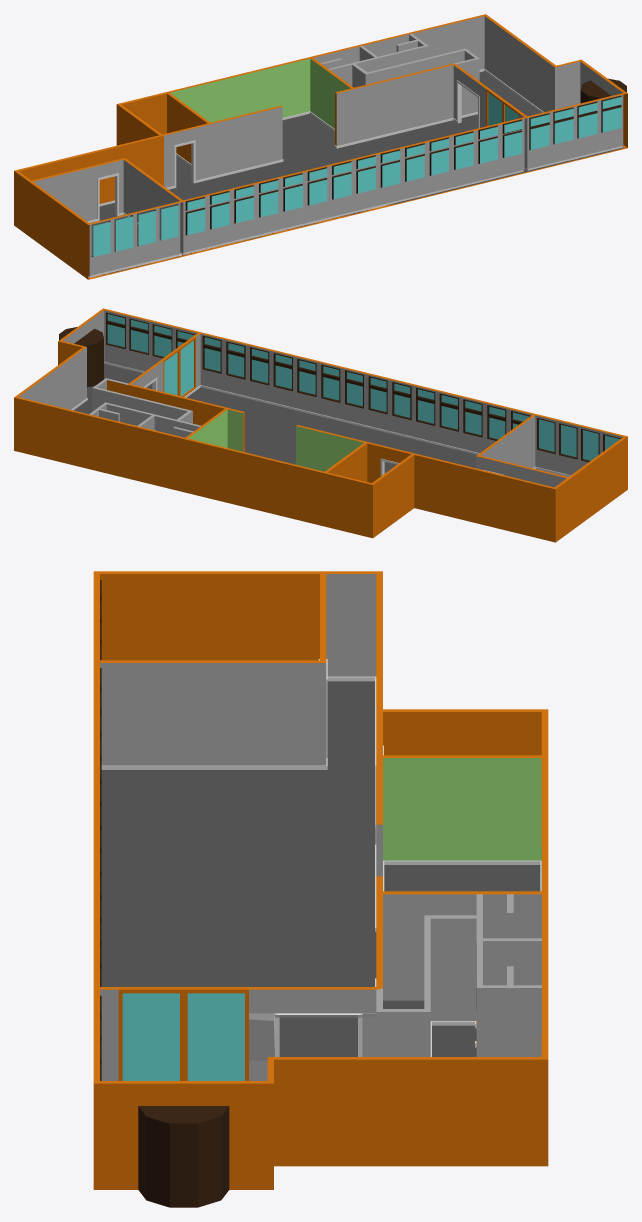
File: GameRoom.fbx
3 views of the same model, one above another, from view 1: azimuth 30°, elevation 25°; view 2: azimuth 150°, elevation 25°; view 3: azimuth 270°, elevation 25° (orthographic). The views are drawn at different scales.
Parts seen in each view (by area): view 1: Walls, Floor, Cylinder; view 2: Walls, Floor, Cylinder; view 3: Walls, Floor, Cylinder.
Boxes of the visible parts, x1=… form: Walls: x1=14, y1=14, x2=627, y2=279; Floor: x1=88, y1=71, x2=624, y2=278; Cylinder: x1=580, y1=78, x2=626, y2=103; Walls: x1=14, y1=308, x2=627, y2=542; Floor: x1=74, y1=363, x2=476, y2=473; Cylinder: x1=59, y1=327, x2=103, y2=387; Walls: x1=93, y1=571, x2=548, y2=1189; Floor: x1=101, y1=681, x2=540, y2=1056; Cylinder: x1=138, y1=1106, x2=229, y2=1207.
Bounding box in the file's own units: 2882 × 270 × 1045.
